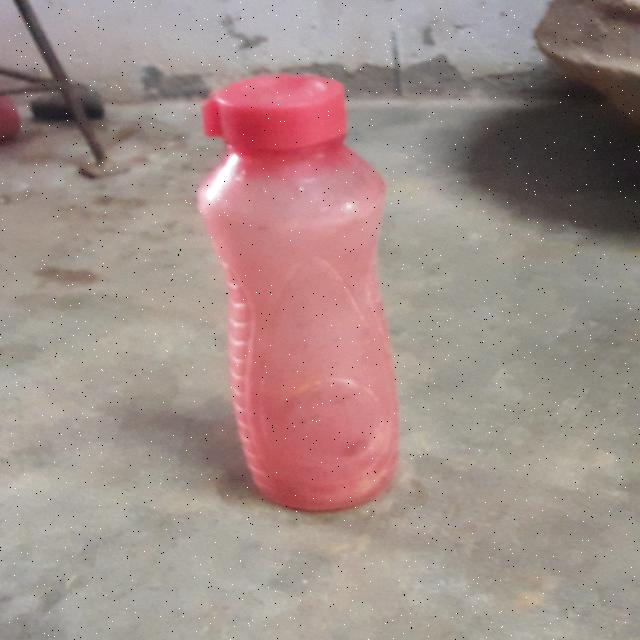plastic: (196, 68, 408, 516)
